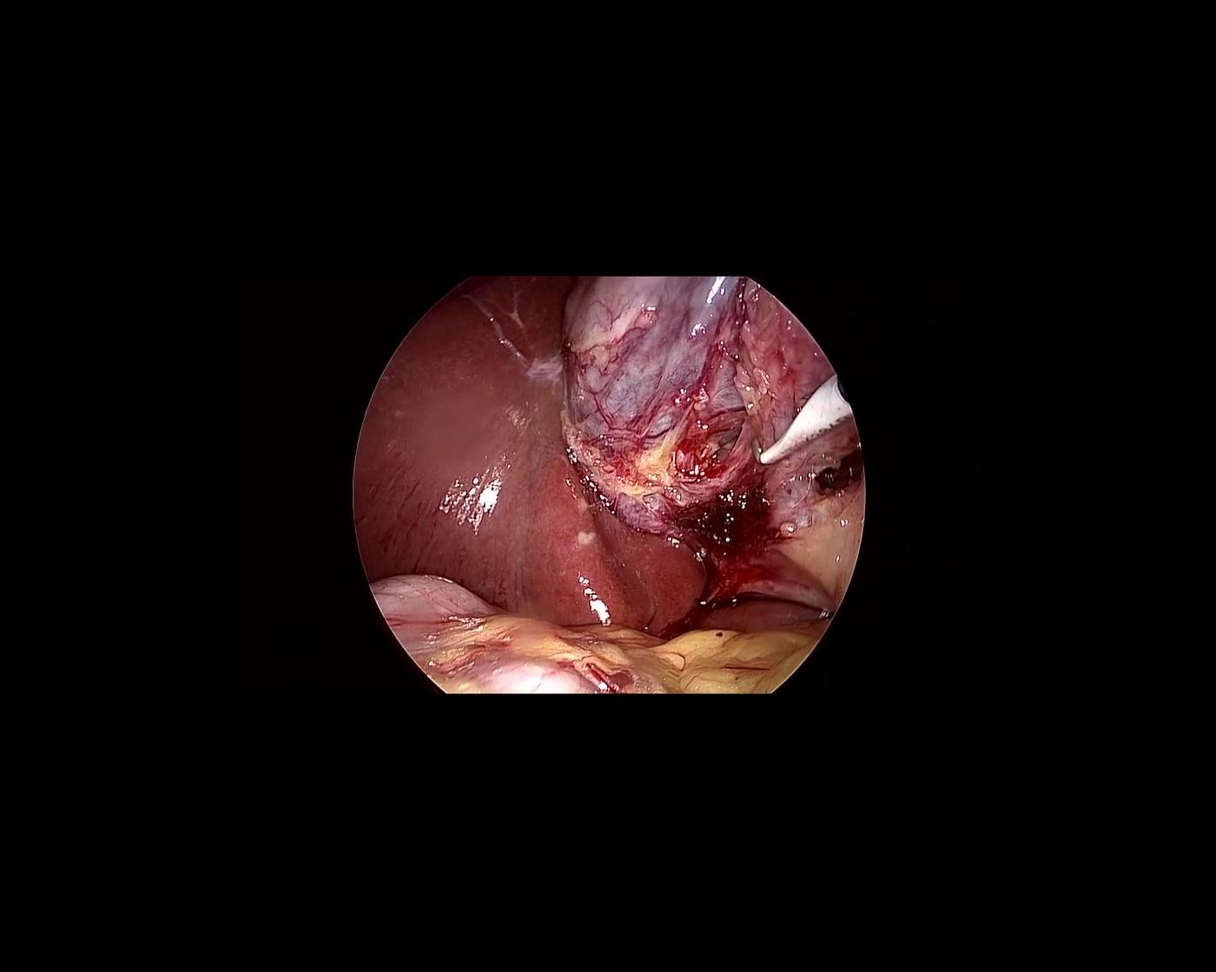Cautery: (738, 375, 856, 469)
Gallbladder: (559, 280, 748, 476)
Liver: (340, 261, 732, 637)
